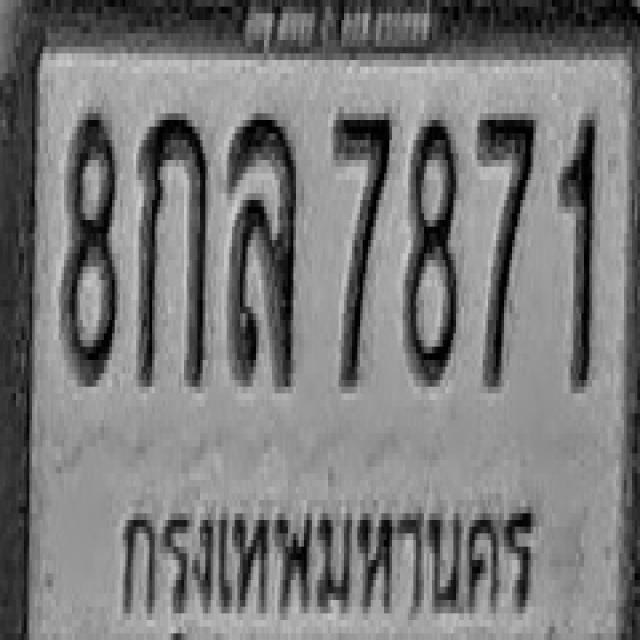1: (559, 113, 596, 387)
10GorGai: (139, 106, 208, 386)
45LorLing: (228, 110, 297, 383)
7: (333, 106, 392, 386), (477, 106, 536, 386)
8: (61, 107, 118, 380), (404, 113, 457, 380)
Bangkok: (107, 486, 541, 640)
